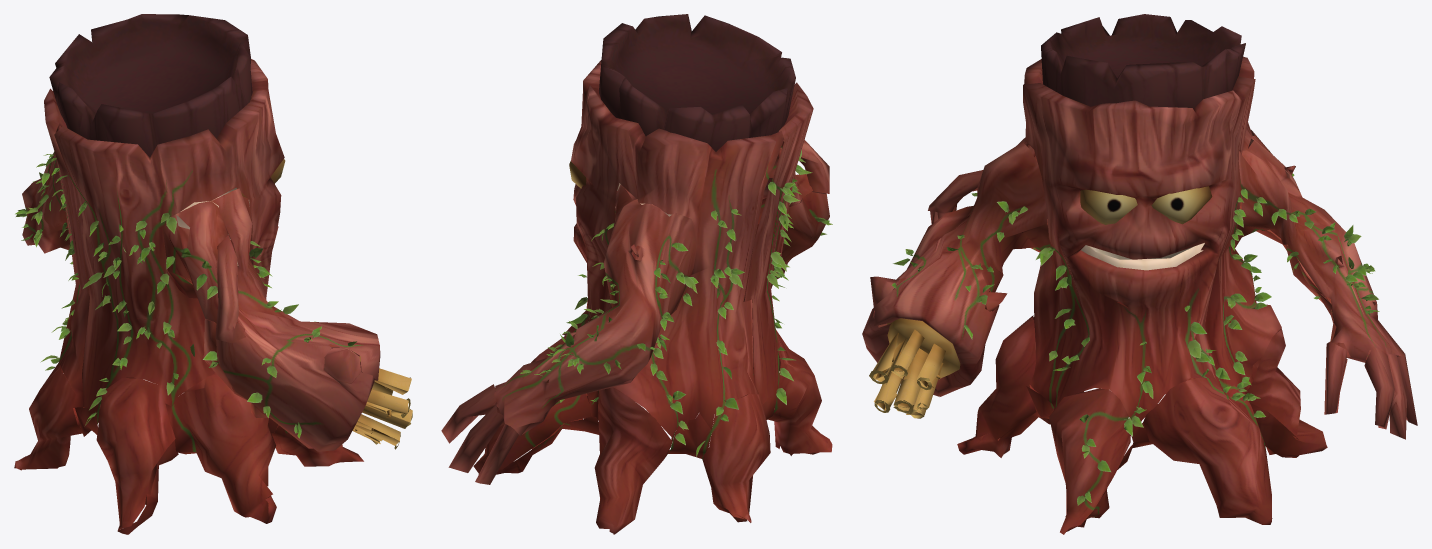
Rendered from Villain1C.glb.
3 views of the same model, side by side, from view 1: azimuth 30°, elevation 25°; view 2: azimuth 150°, elevation 25°; view 3: azimuth 270°, elevation 25° (orthographic).
Visible parts, largest first — view 1: villain1C; view 2: villain1C; view 3: villain1C.
Boxes of the visible parts, x1,y1,x2,y2 form: villain1C: [14, 14, 412, 534]; villain1C: [441, 14, 832, 534]; villain1C: [862, 14, 1417, 534].
Bounding box in the file's own units: 2.73 × 4.18 × 4.94.
1 material, 1 textured.
